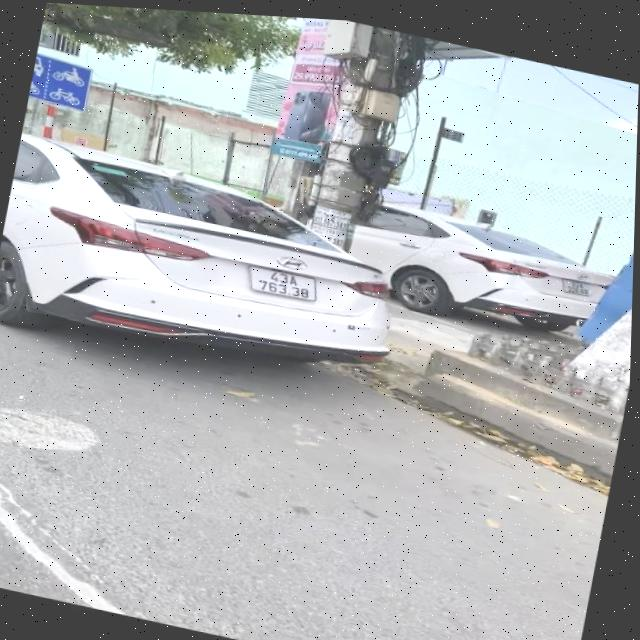car: (0, 128, 413, 404), (279, 174, 613, 349)
plate: (238, 252, 327, 312), (555, 272, 597, 303)
